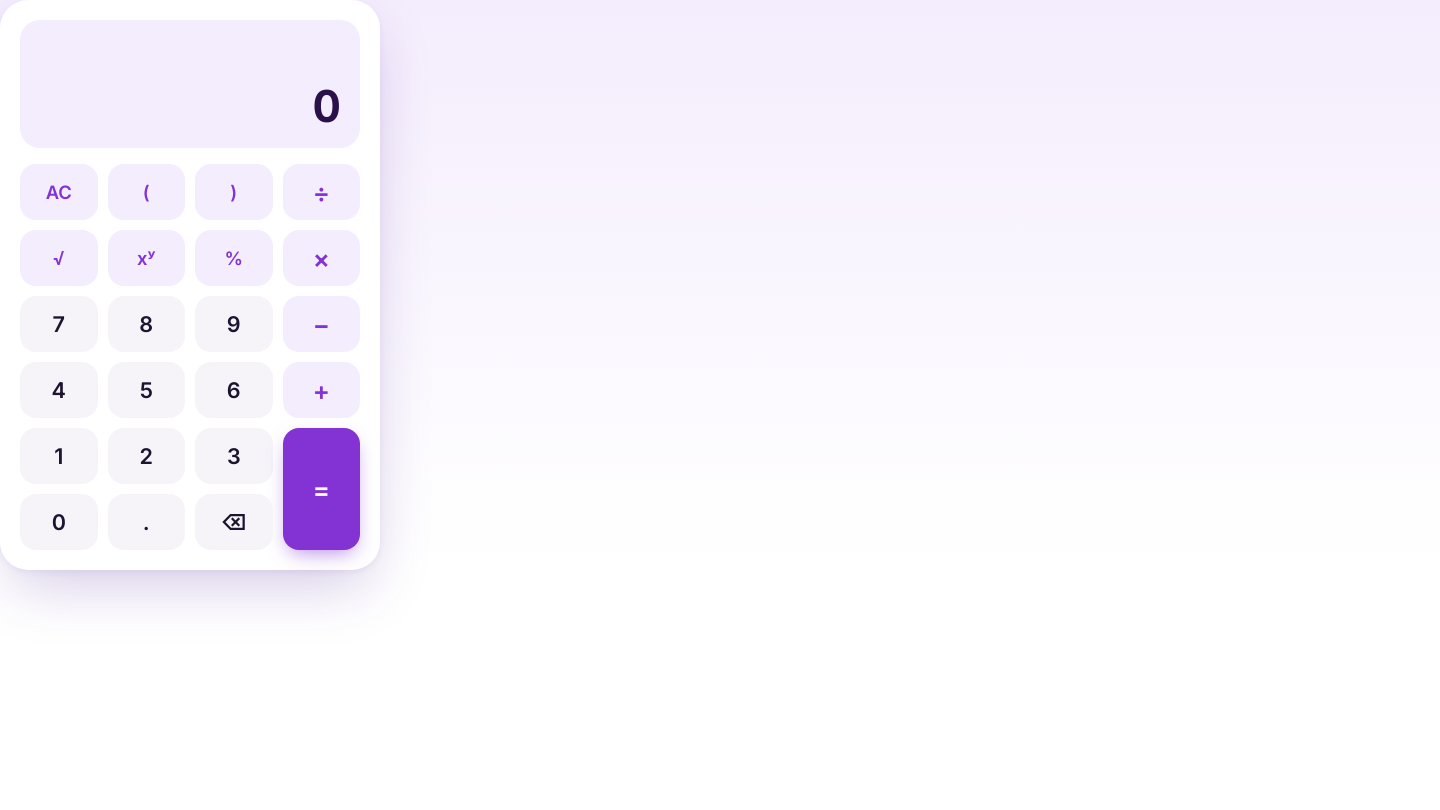
Test case: Calculator › evaluates with operator precedence
The width and height of the screenshot is (1440, 810).
Click the button "2": (146, 456) [108, 428, 185, 484]
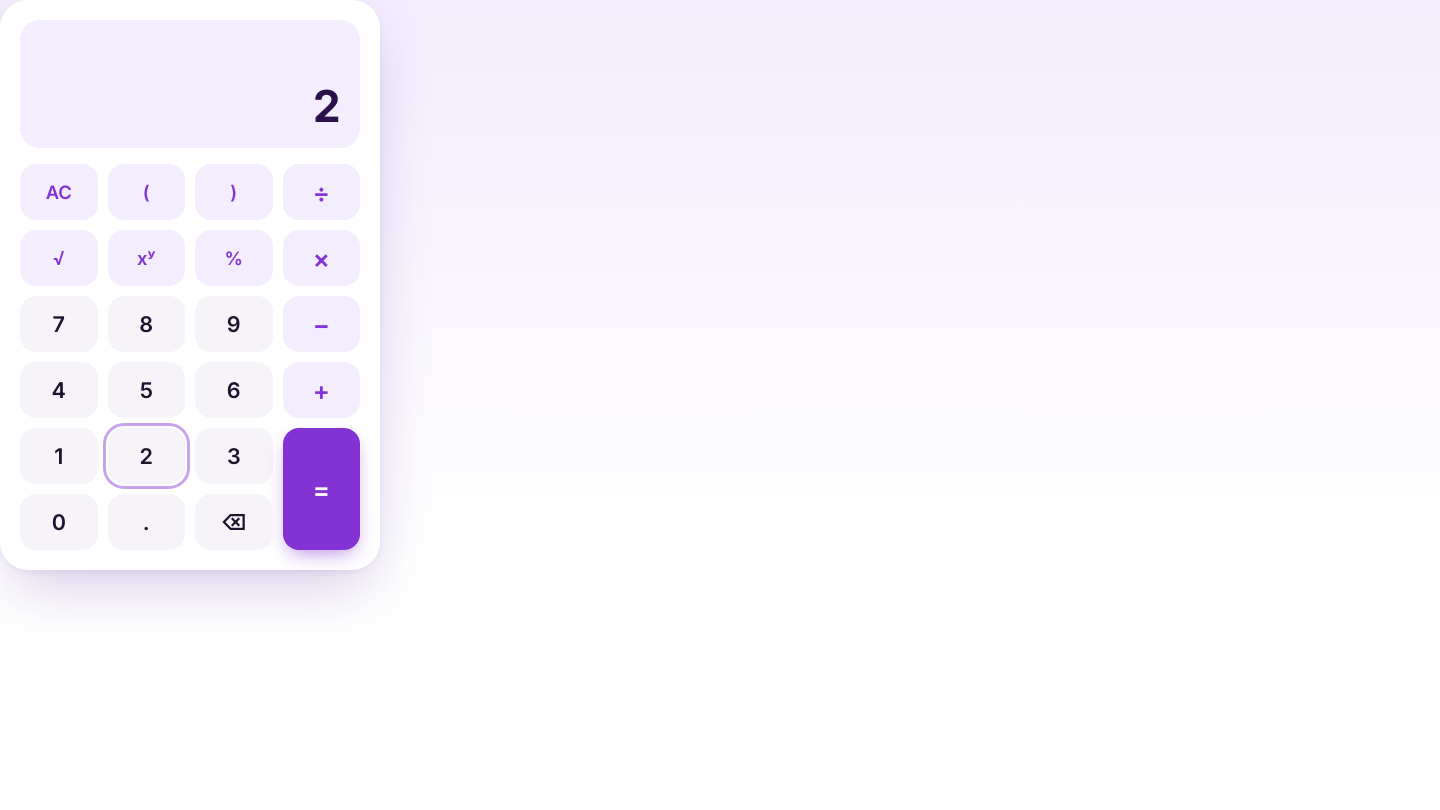
Click the button named "Add": (321, 390) [282, 362, 360, 418]
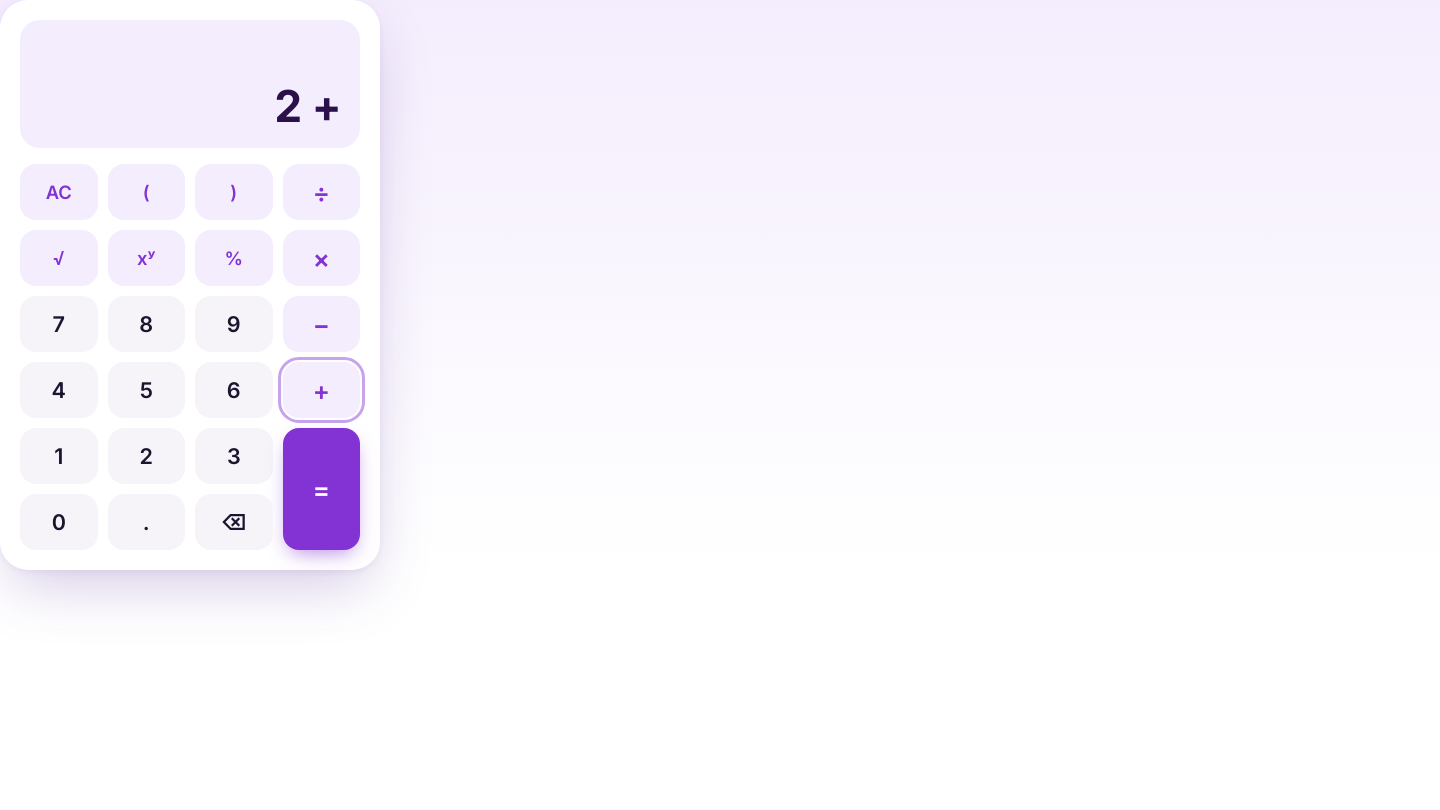
Click the button "3": (234, 456) [195, 428, 272, 484]
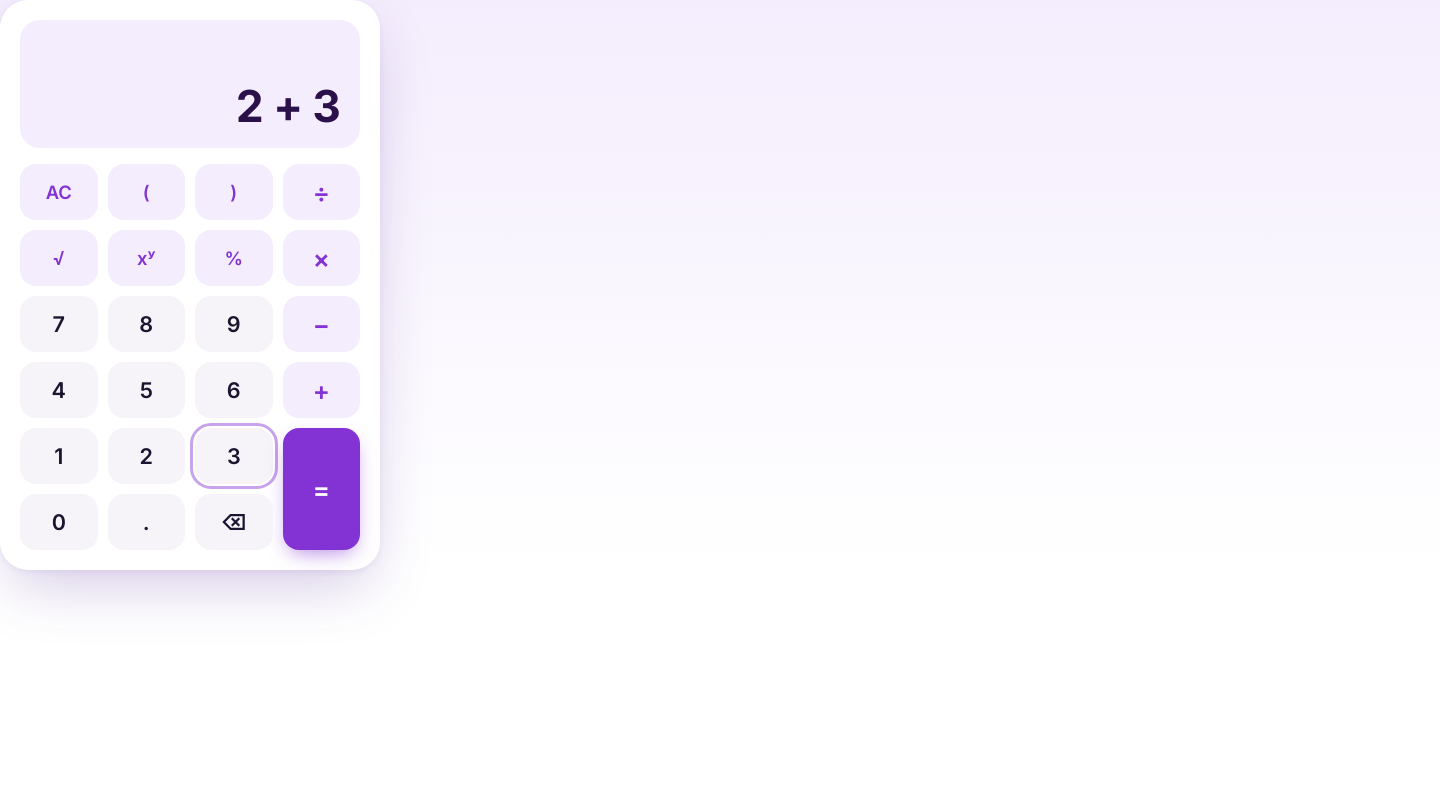
Click the button named "Multiply": (321, 258) [282, 230, 360, 286]
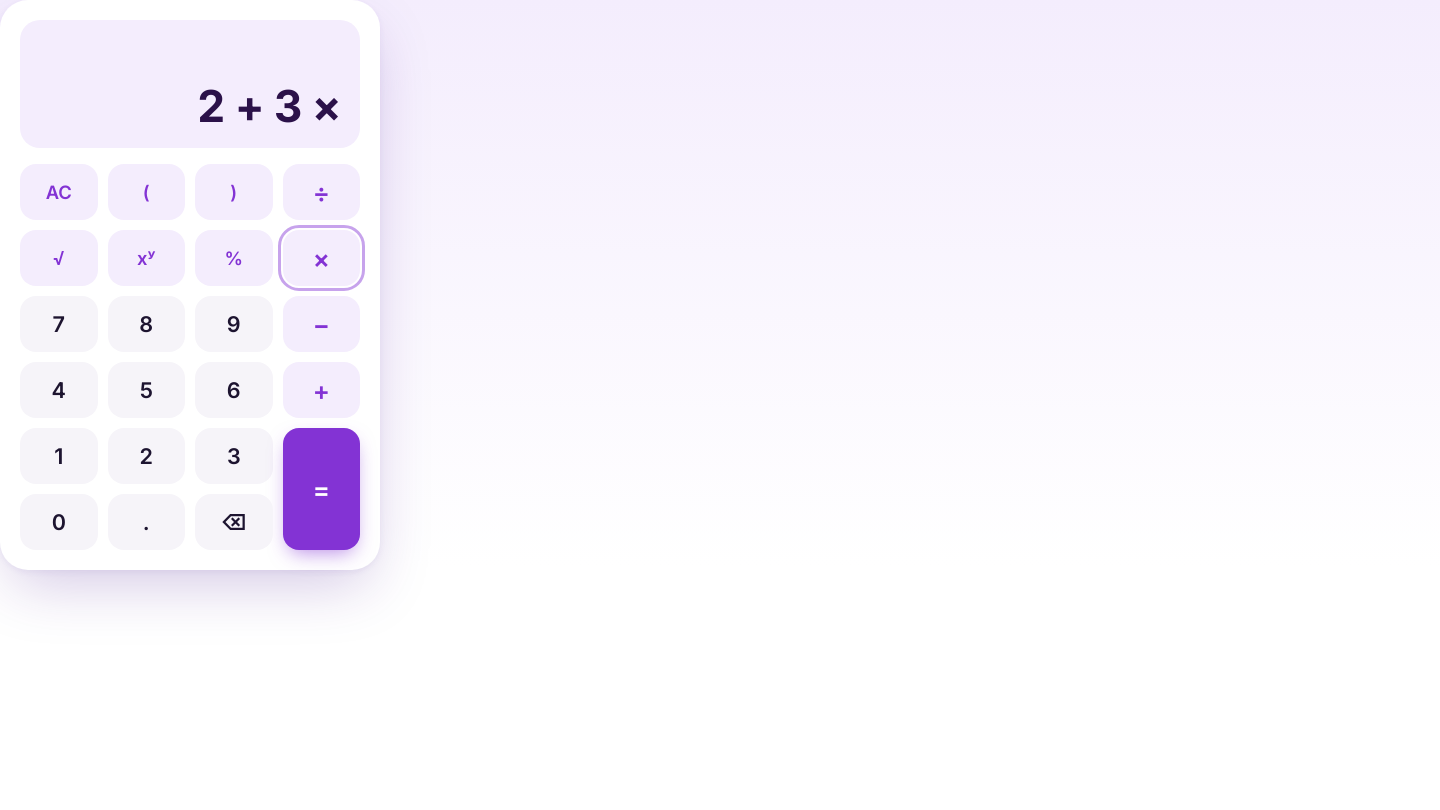
Click the button "4": (59, 390) [20, 362, 98, 418]
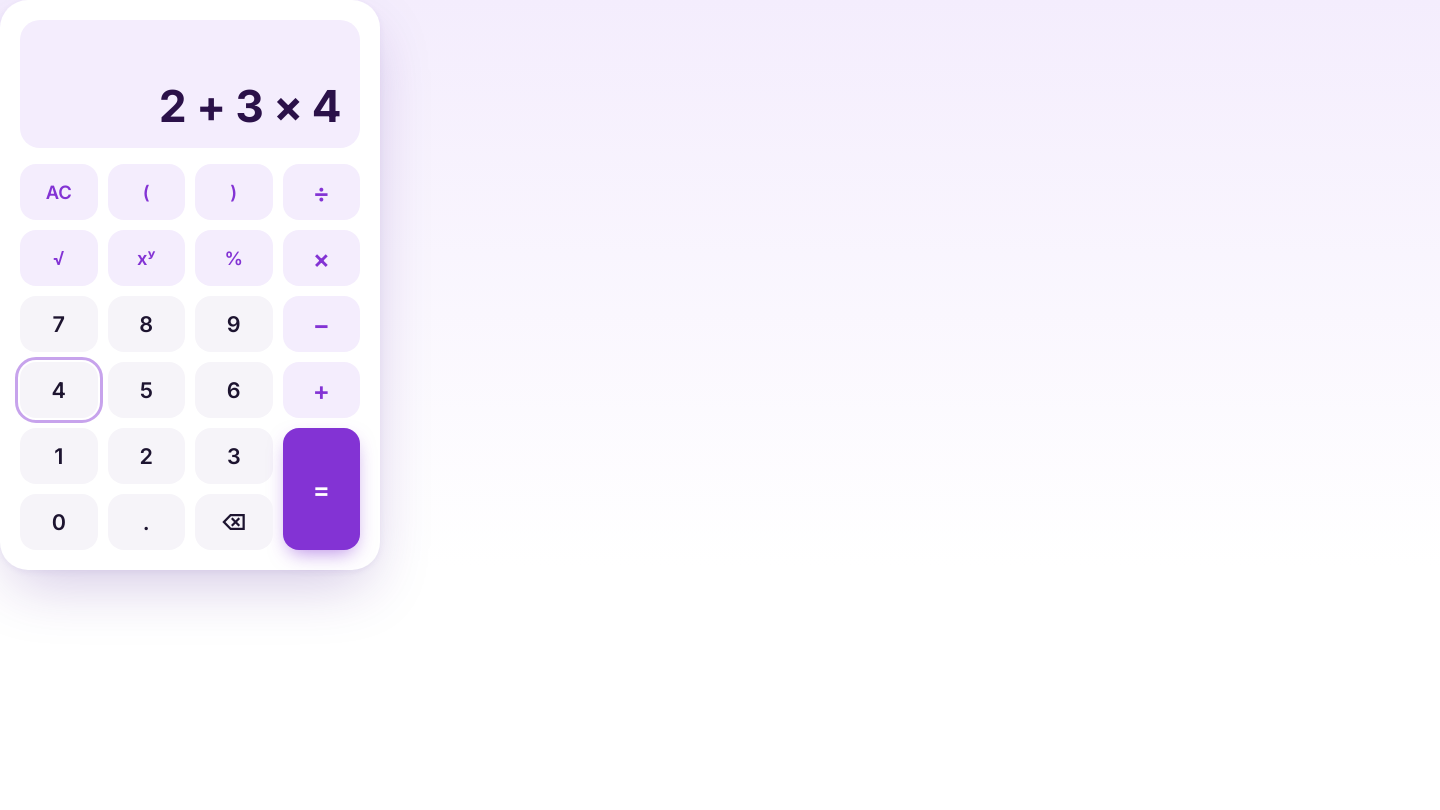
expect the text named "Display" reads "2 + 3 × 4": met, box [158, 79, 340, 133]
Click the button named "Equals": (321, 489) [282, 428, 360, 550]
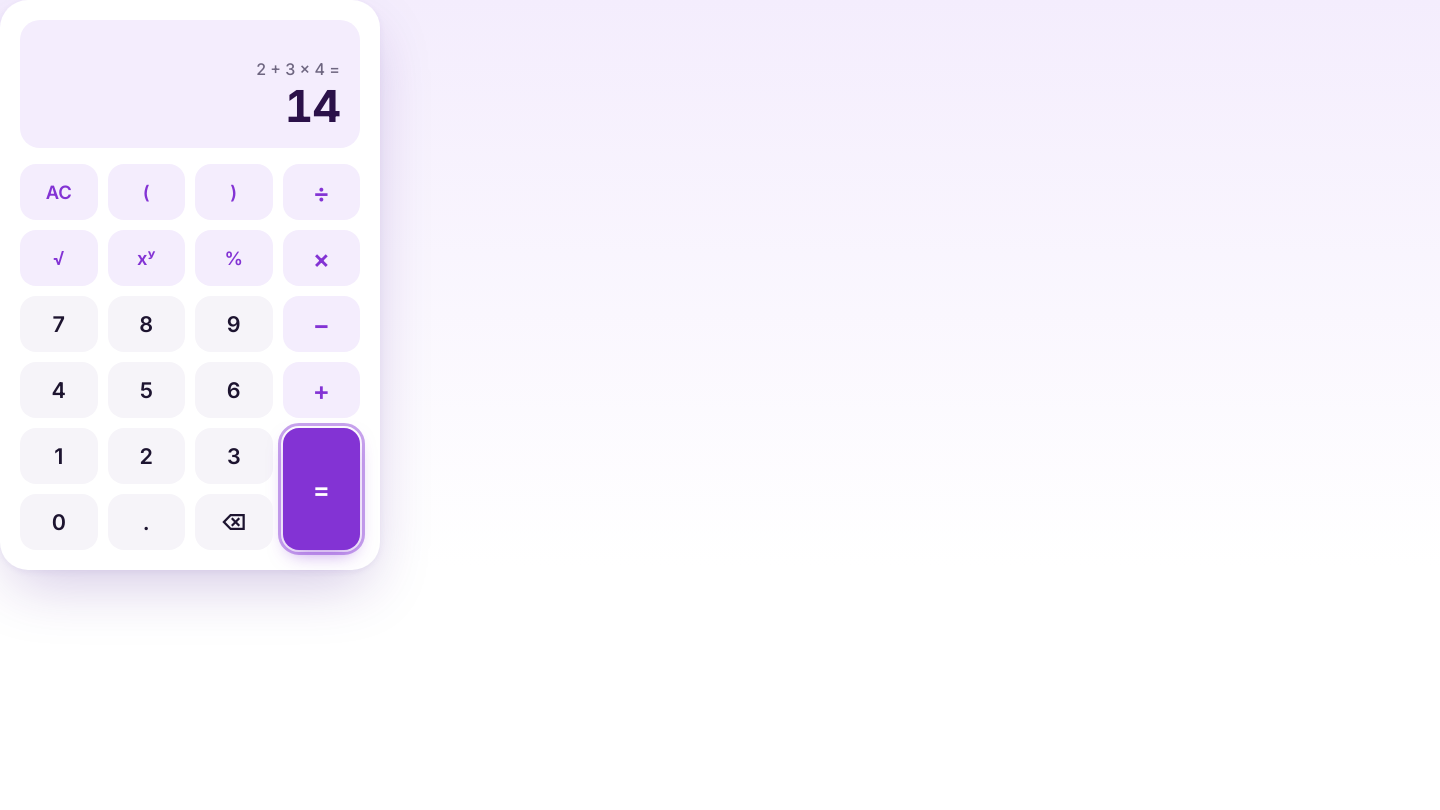
expect the text named "Display" reads "14": met, box [285, 79, 340, 133]
expect the text "2 + 3 × 4 =" is shown: met, box [256, 59, 340, 81]
